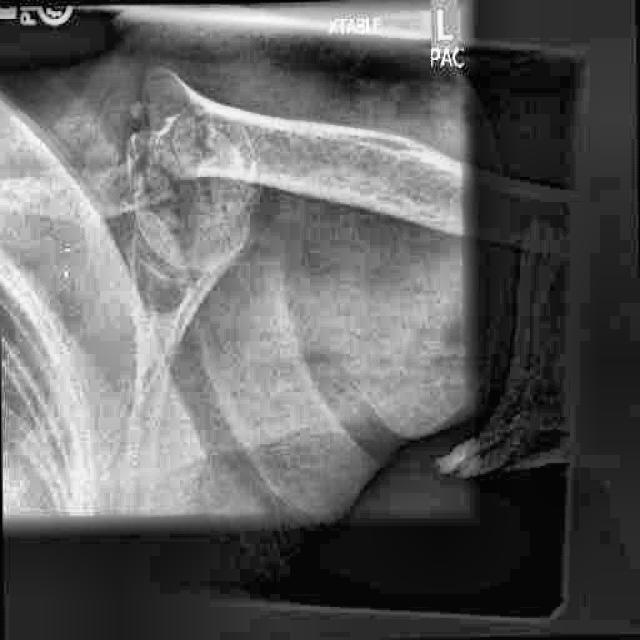shoulder fracture: (108, 102, 201, 196), (317, 105, 429, 174)
